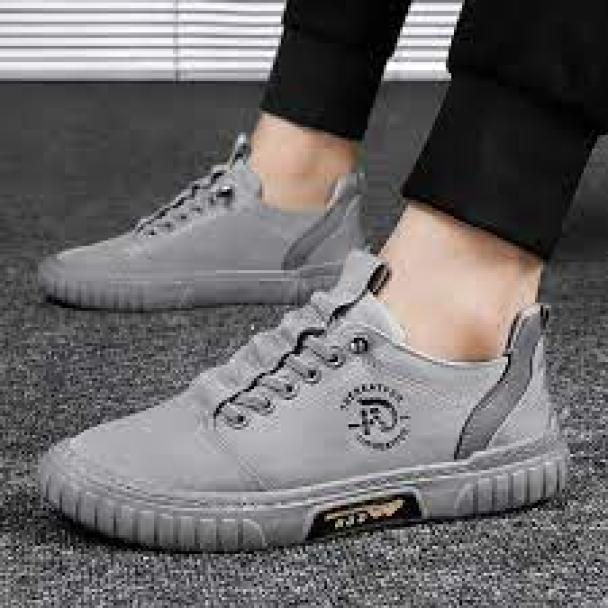Sepatu: (42, 286, 574, 549), (37, 151, 360, 300)
